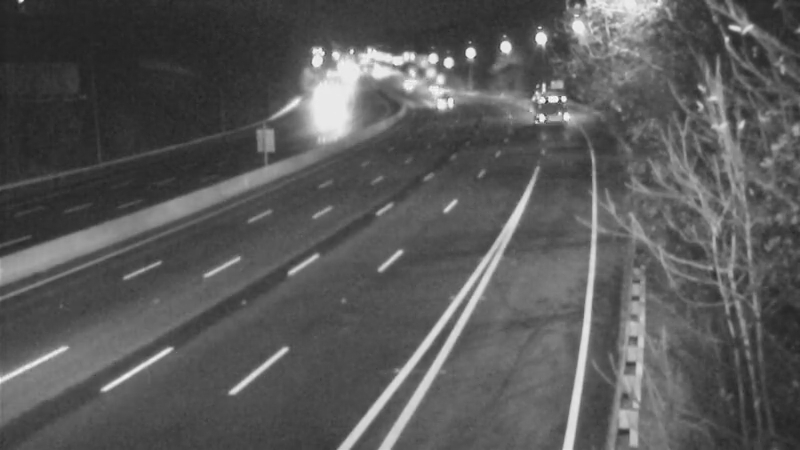vehicle: (414, 75, 464, 125), (517, 78, 567, 128), (303, 81, 353, 131)
